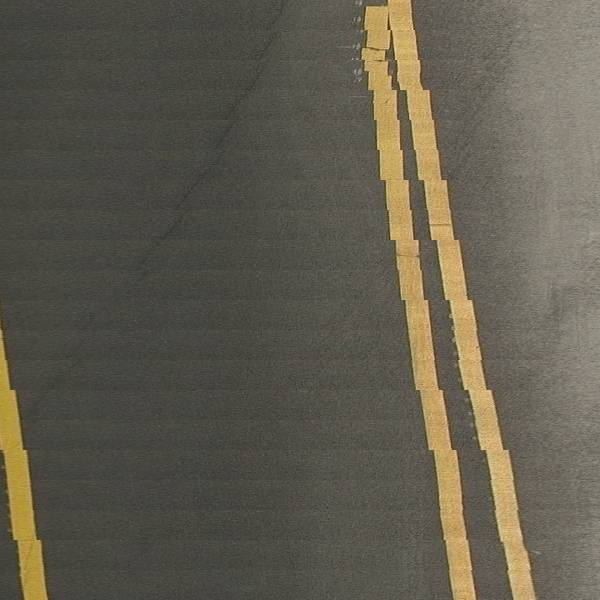road_damage: (29, 18, 283, 409)
